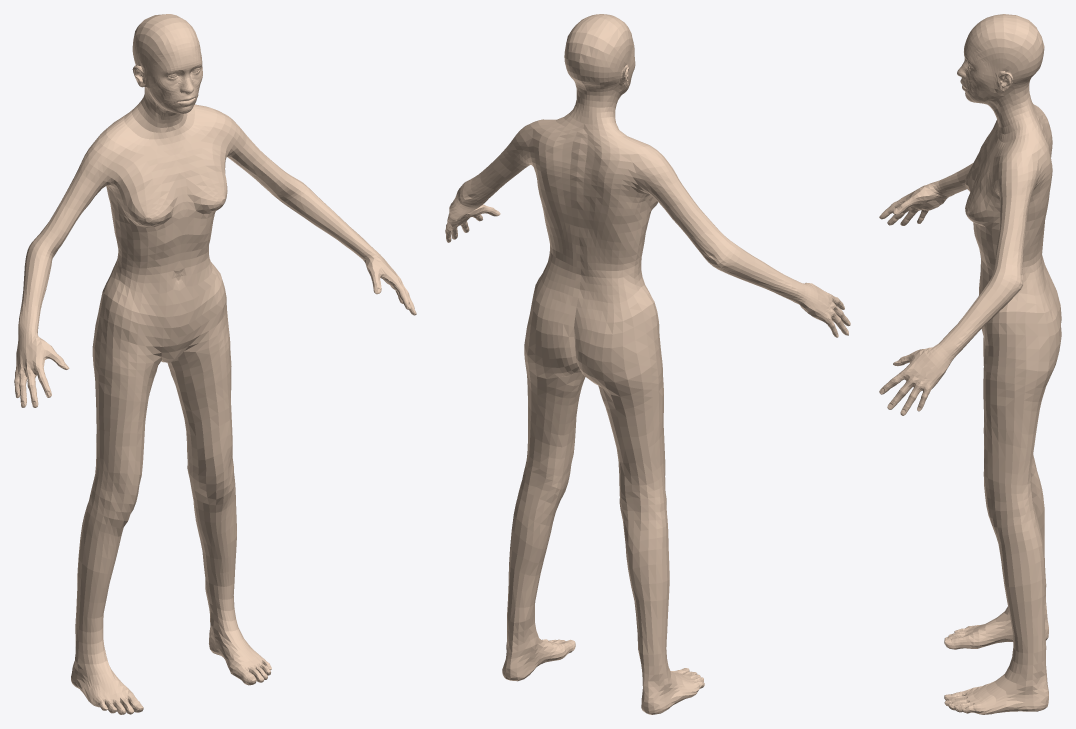
Rendered from female-mature-lean-toned.glb.
3 views of the same model, side by side, from view 1: azimuth 30°, elevation 25°; view 2: azimuth 150°, elevation 25°; view 3: azimuth 270°, elevation 25° (orthographic).
Visible parts, largest first — view 1: world; view 2: world; view 3: world.
Part boxes in pixels (x1,y1,x2,y2): world: (14, 14, 416, 714); world: (445, 14, 850, 714); world: (879, 14, 1061, 714).
Bounding box in the file's own units: 1.12 × 1.81 × 0.4536.
